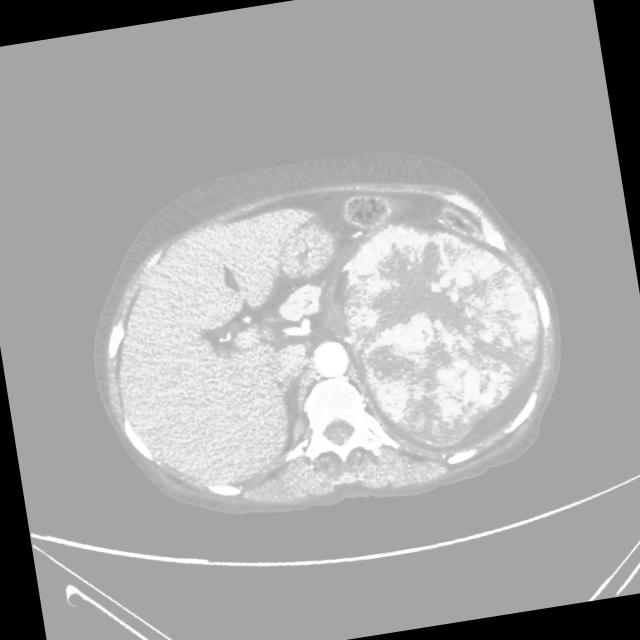TUMOR: (195, 212, 551, 439)
